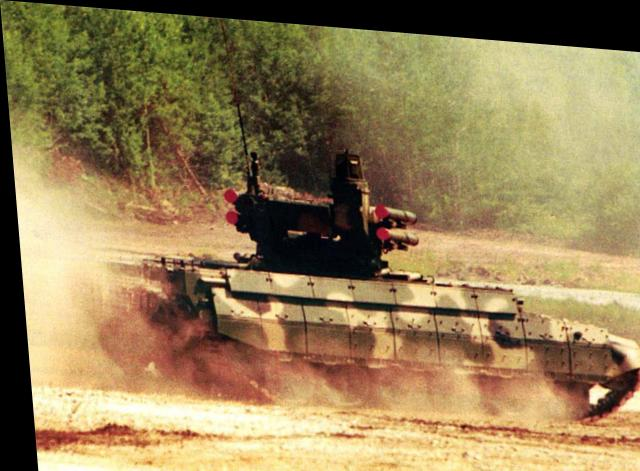tank: (66, 213, 640, 444)
